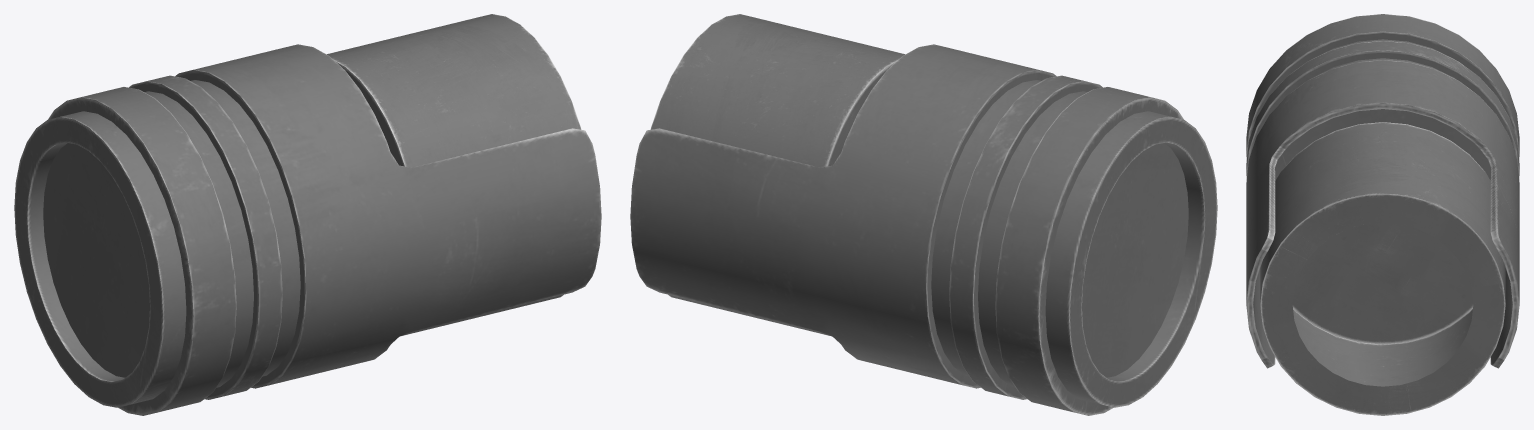
The model's file is pommel_4_c_a.glb.
3 views of the same model, side by side, from view 1: azimuth 30°, elevation 25°; view 2: azimuth 150°, elevation 25°; view 3: azimuth 270°, elevation 25° (orthographic). The views are drawn at different scales.
Visible parts, largest first — view 1: pommel_4_c_a_lod0; view 2: pommel_4_c_a_lod0; view 3: pommel_4_c_a_lod0.
Part boxes in pixels (x1,y1,x2,y2): pommel_4_c_a_lod0: [14, 14, 601, 415]; pommel_4_c_a_lod0: [630, 14, 1217, 415]; pommel_4_c_a_lod0: [1246, 14, 1519, 415].
Size of what is drawn, in the model's own units: 0.0492 by 0.0322 by 0.0322.
1 material, 1 textured.
